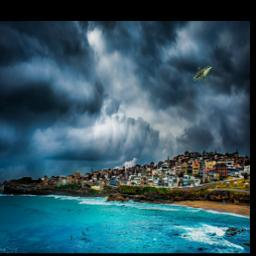Cuckoo: (190, 67, 212, 83)
